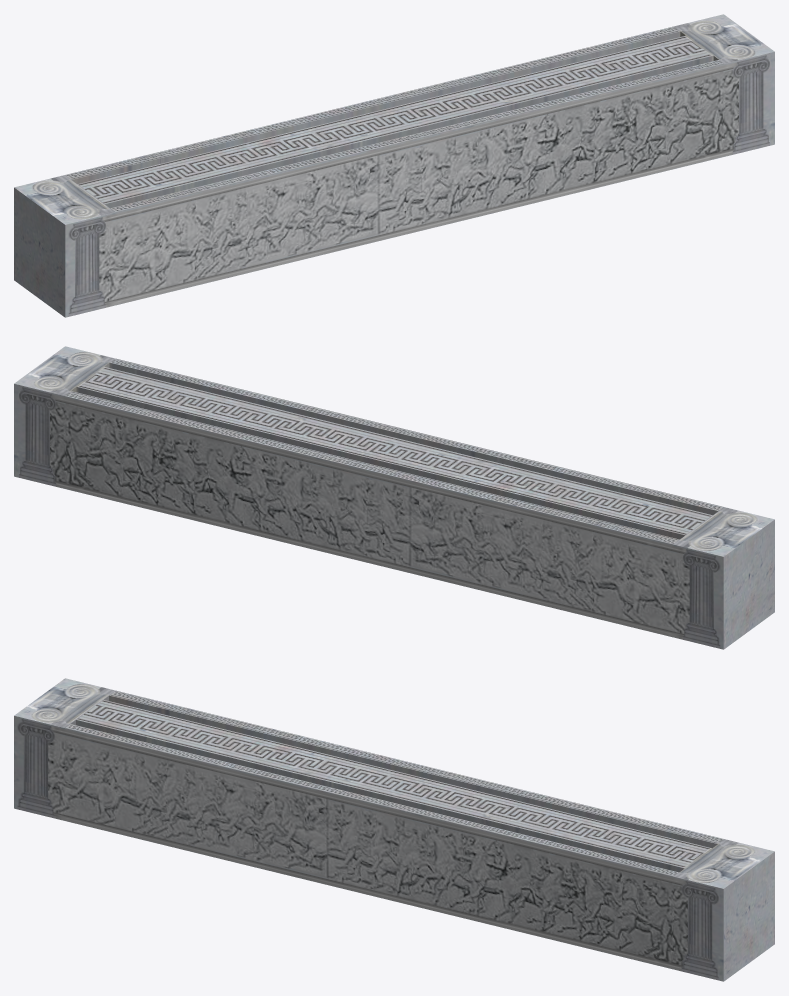
File: Platform4_Set2.fbx
3 renders of one model, top to bottom at view 1: azimuth 30°, elevation 25°; view 2: azimuth 150°, elevation 25°; view 3: azimuth 330°, elevation 25°, orthographic.
Visible parts, largest first — view 1: Platform4_Set2; view 2: Platform4_Set2; view 3: Platform4_Set2.
Part boxes in pixels (left/top/right/bottom): Platform4_Set2: left=14, top=14, right=774, bottom=317; Platform4_Set2: left=14, top=346, right=774, bottom=649; Platform4_Set2: left=14, top=678, right=774, bottom=981.
Size of the model in its own units: 8 by 1 by 1.
